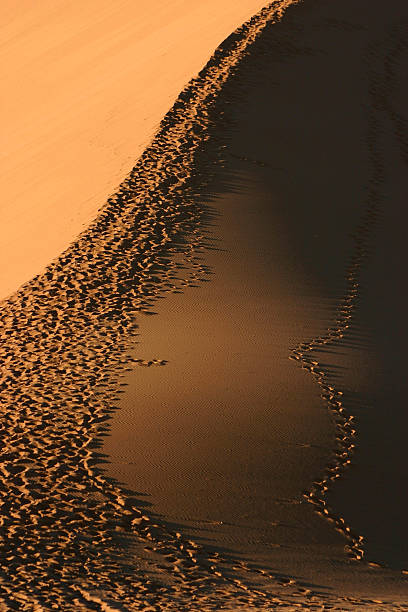animal_foot_print: (0, 0, 288, 611), (290, 236, 363, 558)
